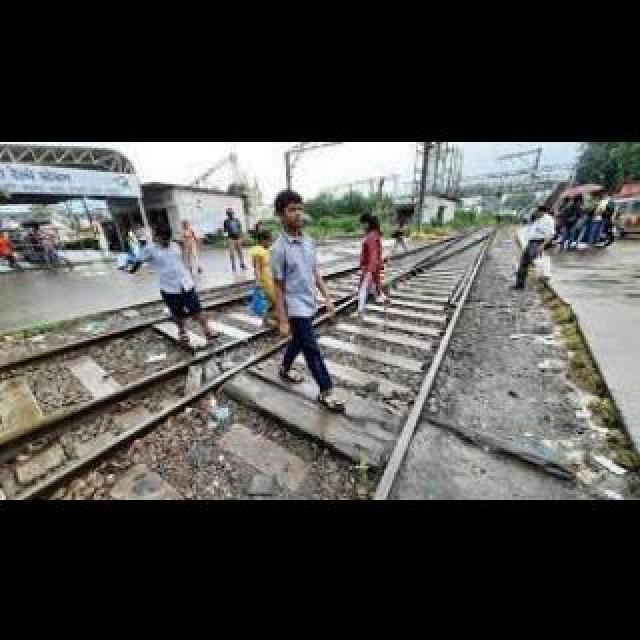people: (269, 193, 339, 397), (137, 229, 221, 347), (349, 212, 393, 318), (517, 201, 556, 294), (250, 237, 284, 329), (218, 205, 248, 279), (181, 215, 205, 279)
